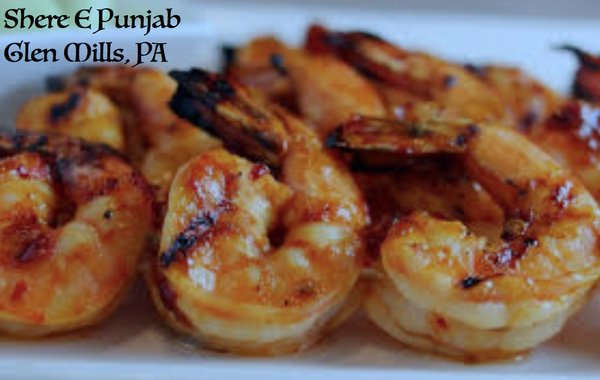salad: (0, 136, 156, 338)
